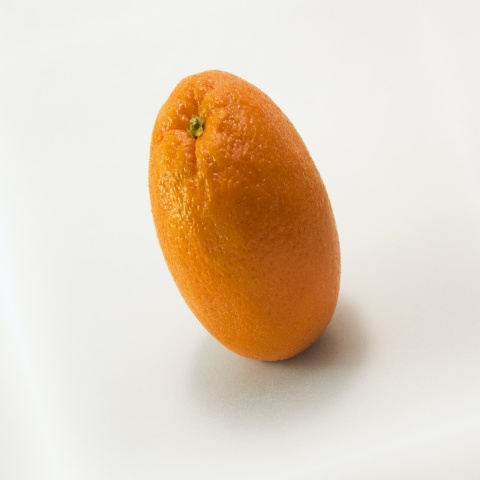orange: (79, 0, 423, 427)
